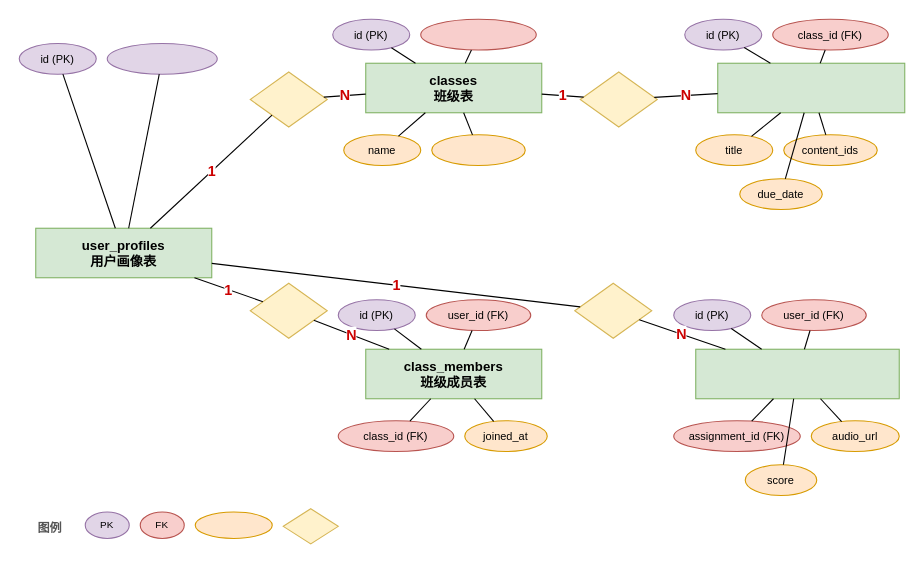
Image size: 924x563. Some labels were removed from this diagram. Each missing label, with the box of its shape:
assignment_records 作业提交记录表: (695, 348, 899, 399)
assignments 作业表: (717, 62, 905, 113)
description: (431, 134, 525, 166)
teacher_id (FK): (420, 18, 536, 50)
username (UQ): (106, 42, 217, 74)
关系: (282, 508, 338, 544)
布置: (579, 71, 657, 127)
提交: (574, 282, 652, 338)
教学: (249, 71, 327, 127)
普通属性: (194, 511, 272, 538)
选课: (249, 282, 327, 338)
